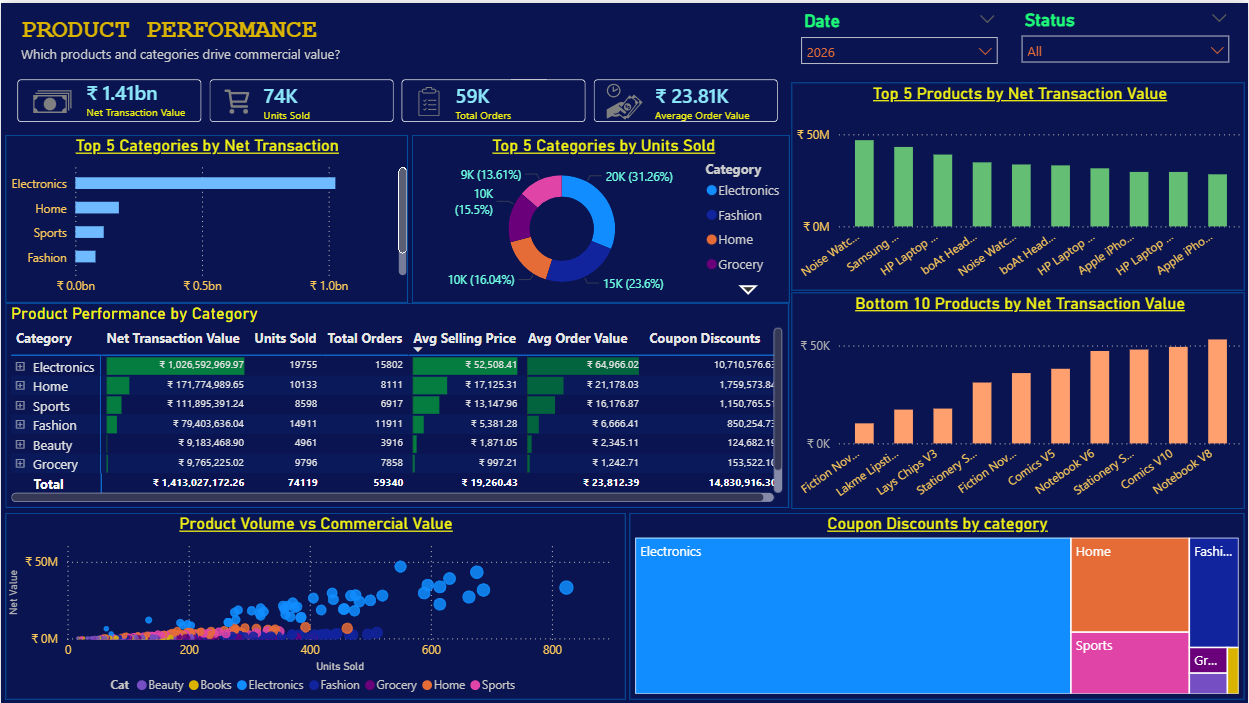

What the dashboard file says about the page in this screenshot:
{"tool":"powerbi","page":{"name":"Product Performance","canvas":[1280,720],"ordinal":1},"visuals":[{"type":"textbox","box":[16.1,8.1,545.3,59.9],"z":0},{"type":"cardVisual","fields":{"Data":["_Measure.Net Transaction Value","_Measure.Units Sold","_Measure.Total Orders","_Measure.Average Order Value"]},"box":[4.6,66.9,805.8,68],"z":1000},{"type":"clusteredBarChart","title":"Top 5 Categories by Net Transaction","fields":{"Category":["Dim_Products.category"],"Y":["_Measure.Net Transaction Value"]},"box":[4.6,134.9,412.7,171.8],"z":2000},{"type":"donutChart","title":"Top 5 Categories by Units Sold","fields":{"Category":["Dim_Products.category"],"Y":["_Measure.Units Sold"]},"box":[420.8,134.9,387.3,171.8],"z":3000},{"type":"clusteredColumnChart","title":"Top 5 Products by Net Transaction Value","fields":{"Category":["Dim_Products.product_name"],"Y":["_Measure.Net Transaction Value"]},"box":[810.2,81,464.6,213.6],"z":4000},{"type":"clusteredColumnChart","title":"Bottom 10 Products by Net Transaction Value","fields":{"Y":["_Measure.Net Transaction Value"],"Category":["Dim_Products.product_name"]},"box":[810.2,297.3,464.6,221.8],"z":5000},{"type":"pivotTable","title":"Product Performance by Category","fields":{"Rows":["Dim_Products.category","Dim_Products.product_name"],"Values":["_Measure.Net Transaction Value","_Measure.Units Sold","_Measure.Total Orders","_Measure.Average Selling Price","_Measure.Average Order Value","_Measure.Coupon Discounts"]},"box":[4.2,308.4,803.3,210.2],"z":6000},{"type":"scatterChart","title":"Product Volume vs Commercial Value","fields":{"X":["_Measure.Units Sold"],"Y":["_Measure.Net Transaction Value"],"Size":["_Measure.Total Orders"],"Category":["Dim_Products.product_name"],"Series":["Dim_Products.category"]},"box":[4.2,522.8,635.8,191.6],"z":7000},{"type":"treemap","fields":{"Group":["Dim_Products.category"],"Values":["_Measure.Coupon Discounts"]},"box":[644.2,522.8,630.7,191.6],"z":8000},{"type":"slicer","fields":{"Values":["Dim_Date.Year","Dim_Date.Month"]},"box":[810.2,2.7,221.1,72.8],"z":9000},{"type":"slicer","fields":{"Values":["Fact_Sales.order_status"]},"box":[1037.5,2.3,232.9,73.8],"z":10000}]}

Visuals, with their boxes in screenshot pixels (x1, y1, x2, y2), scaled from the page's 1280x720 canvas onto the 1249x703 screenshot:
textbox: locate(16, 8, 548, 66)
cardVisual - _Measure.Net Transaction Value x _Measure.Units Sold: locate(4, 65, 791, 132)
"Top 5 Categories by Net Transaction" clusteredBarChart: locate(4, 132, 407, 299)
"Top 5 Categories by Units Sold" donutChart: locate(411, 132, 789, 299)
"Top 5 Products by Net Transaction Value" clusteredColumnChart: locate(791, 79, 1244, 288)
"Bottom 10 Products by Net Transaction Value" clusteredColumnChart: locate(791, 290, 1244, 507)
"Product Performance by Category" pivotTable: locate(4, 301, 788, 506)
"Product Volume vs Commercial Value" scatterChart: locate(4, 510, 624, 698)
treemap - Dim_Products.category x _Measure.Coupon Discounts: locate(629, 510, 1244, 698)
slicer - Dim_Date.Year x Dim_Date.Month: locate(791, 3, 1006, 74)
slicer - Fact_Sales.order_status: locate(1012, 2, 1240, 74)
